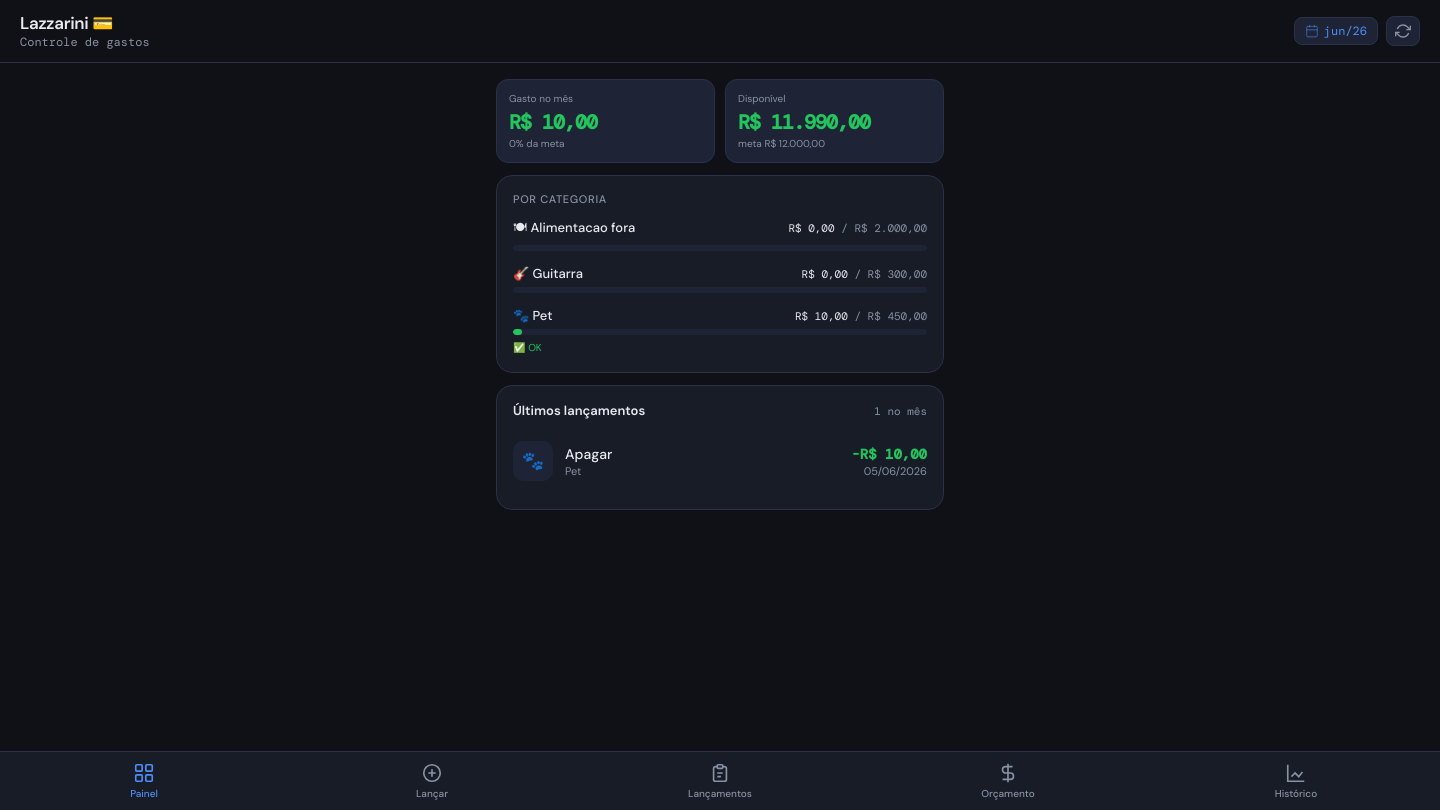
Scenario: Detalhe do lançamento › excluir pelo detalhe volta para Lançamentos
expect the text "Por categoria" is shown: met, box [513,192,607,206]
Click the button "Lançamentos": (720, 781) [576,752,864,809]
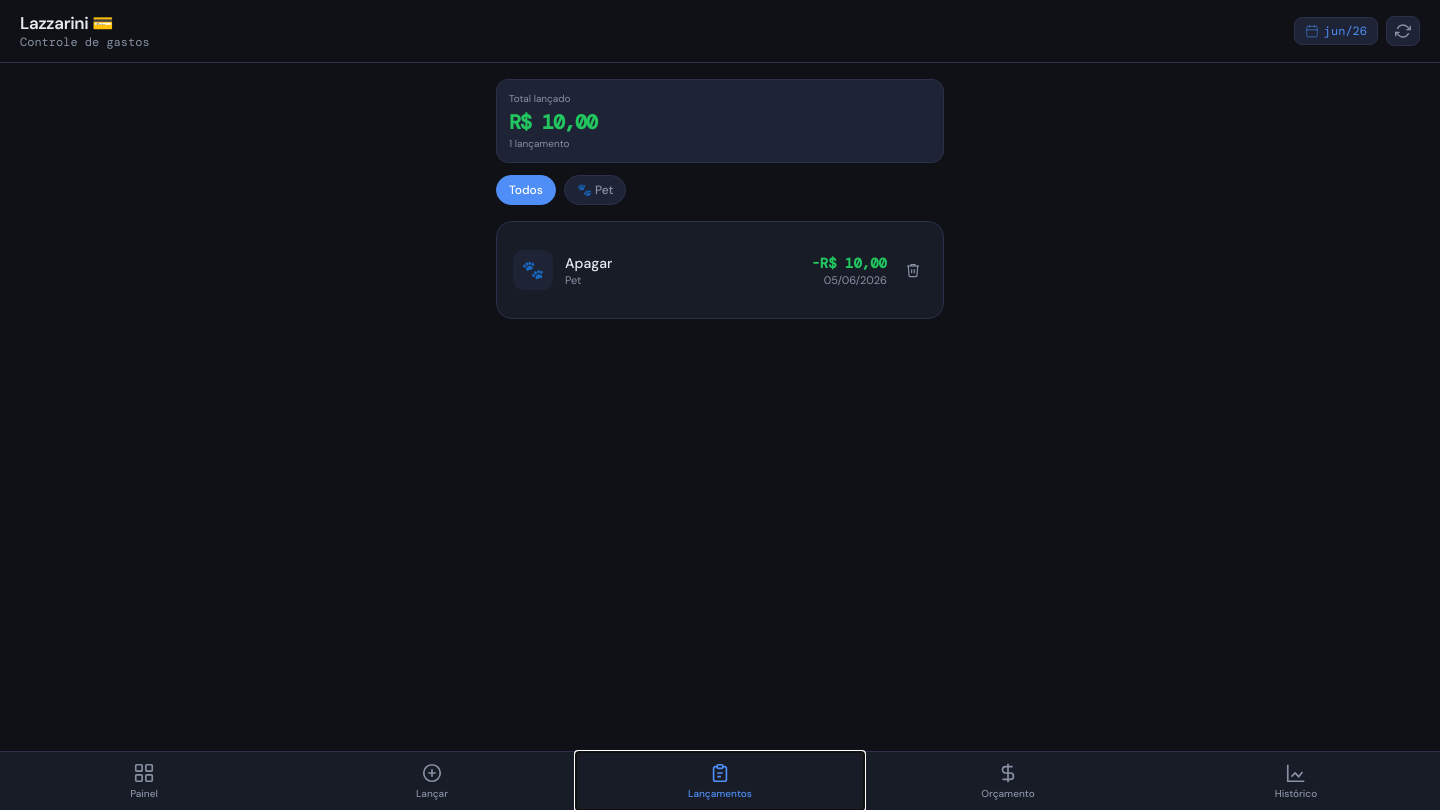
Click the element with test id "lanc-item": (533, 270) [513,238,927,302]
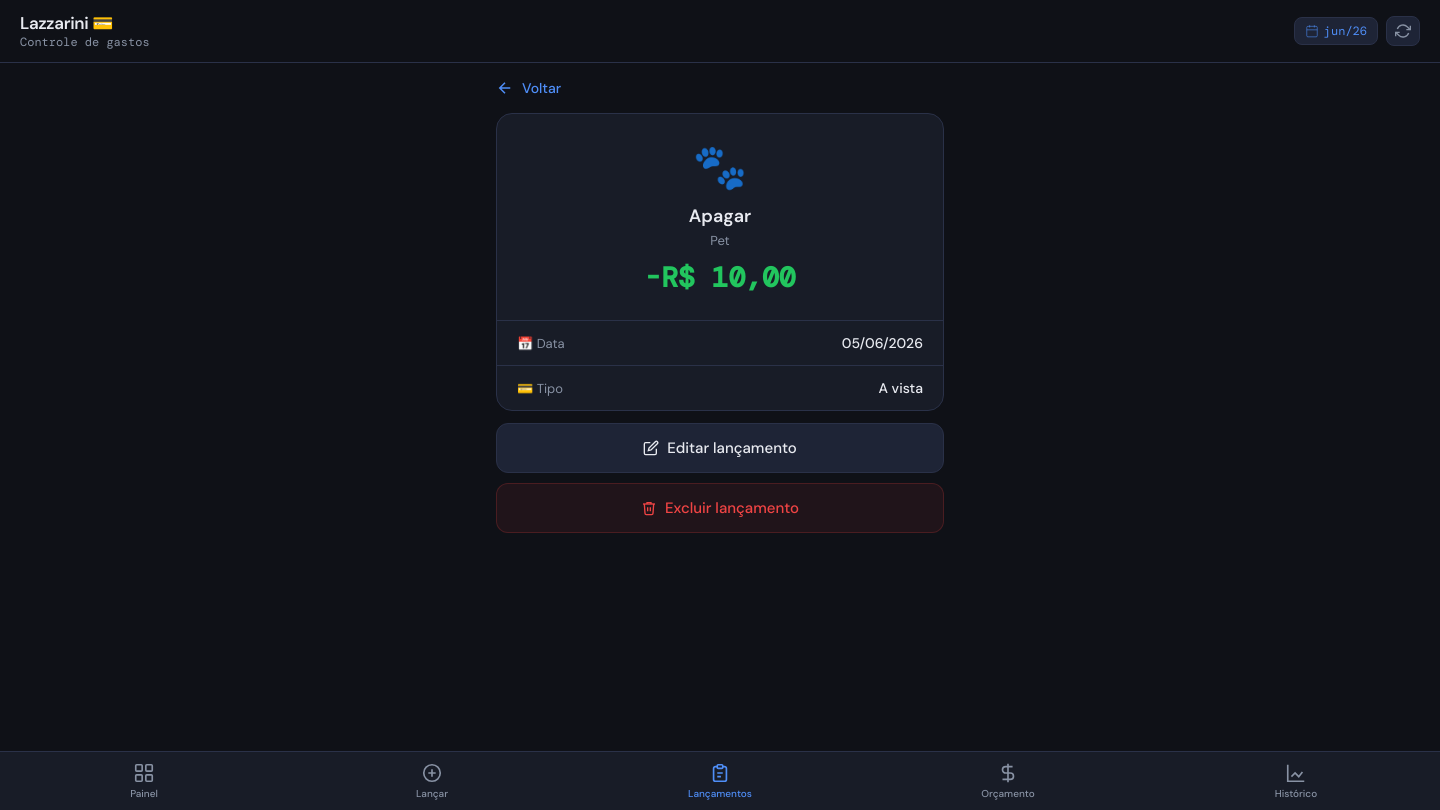
Click the button "Excluir lançamento": (720, 508) [496,483,944,533]
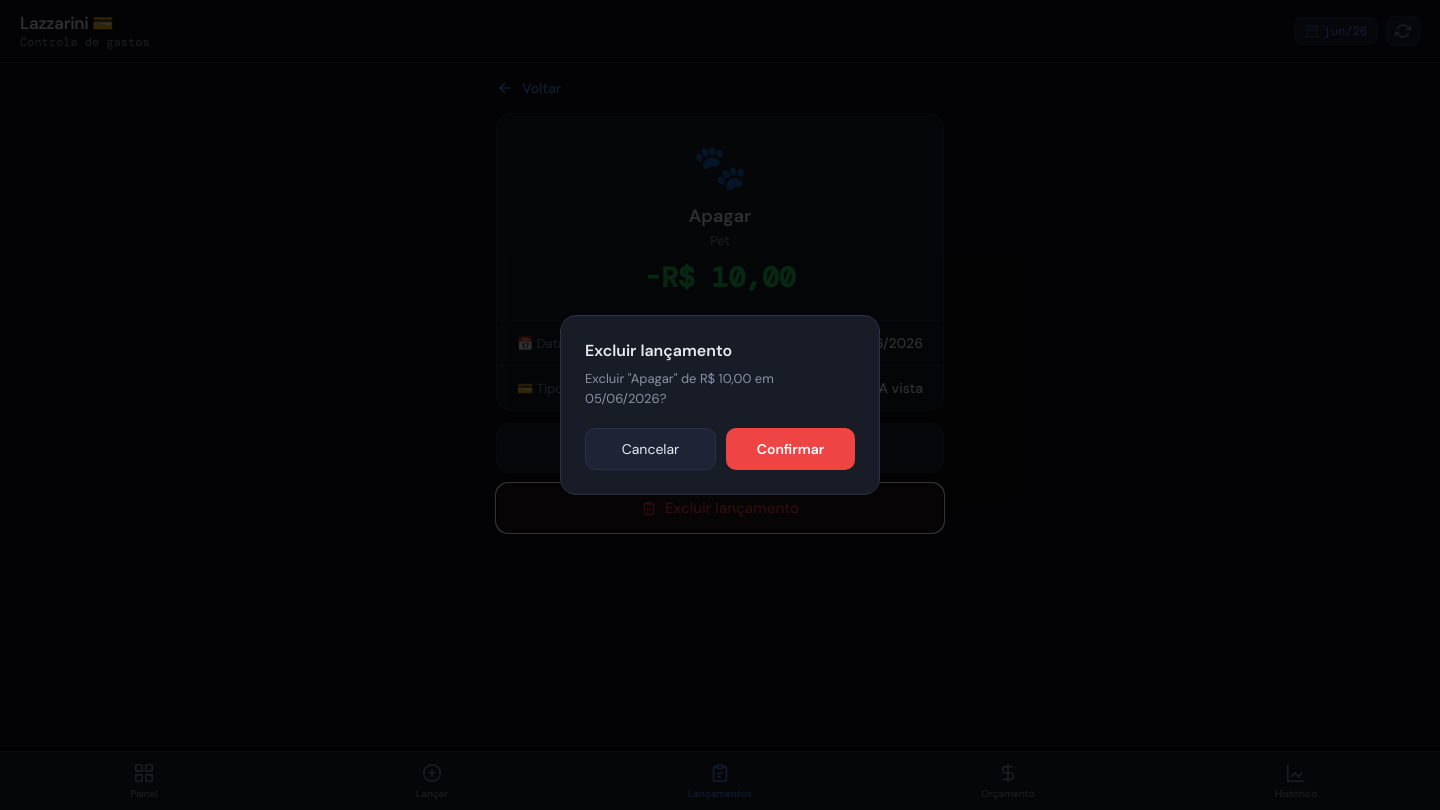
Click the button "Confirmar": (790, 449) [726,428,855,470]
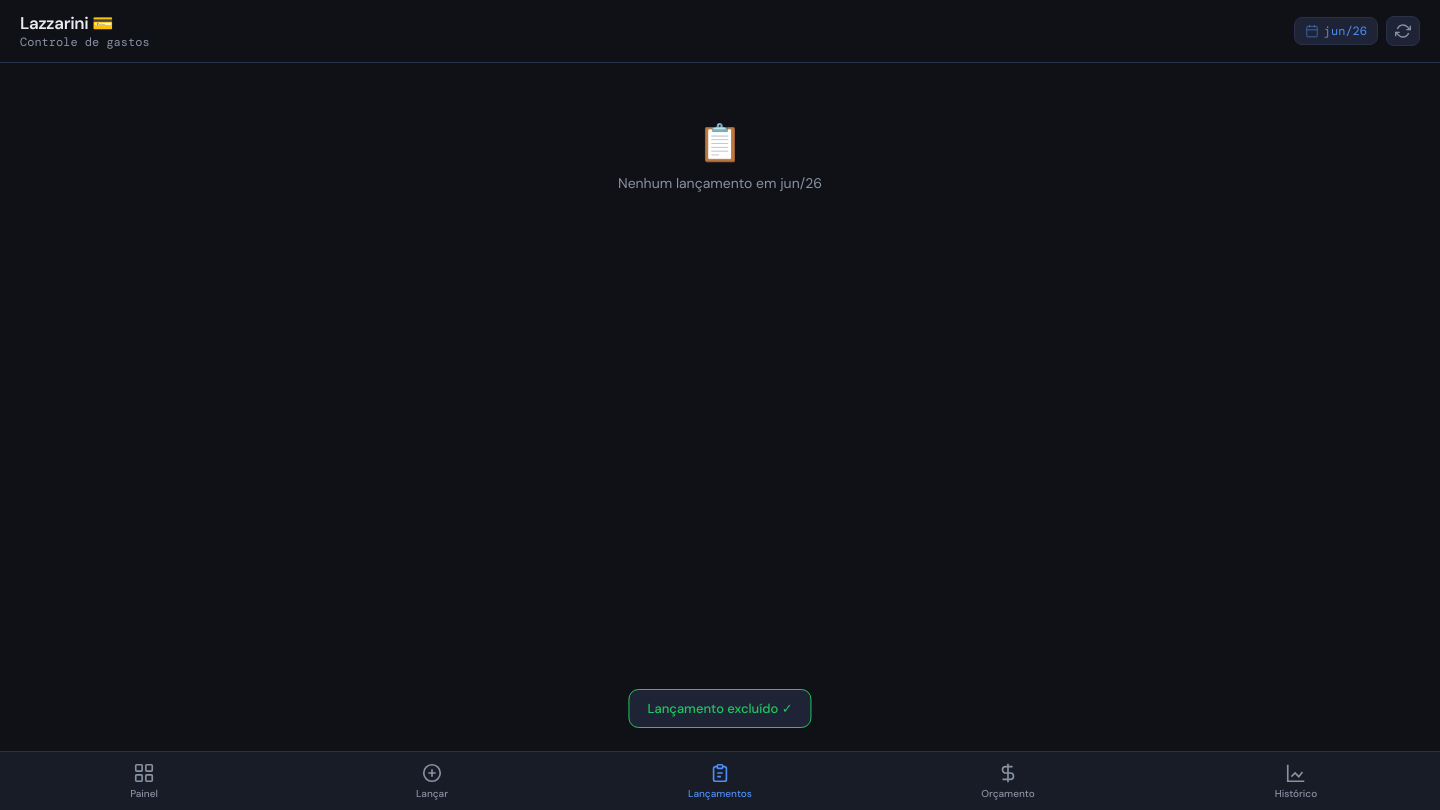
expect the message reads "Lançamento excluído ✓": met, box [647,700,792,717]
